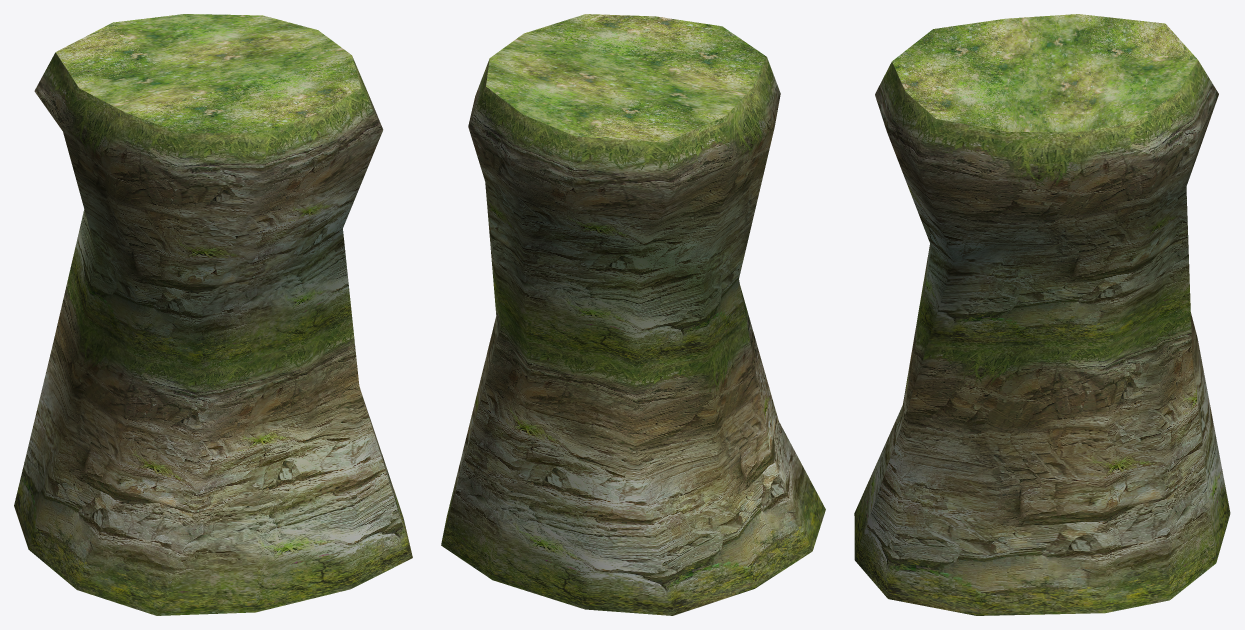
The model's file is GrassPillar.gltf.
The picture shows the model from 3 angles, left to right: view 1: azimuth 30°, elevation 25°; view 2: azimuth 150°, elevation 25°; view 3: azimuth 270°, elevation 25°; orthographic projection. The views are drawn at different scales.
Visible parts, largest first — view 1: GrassPillar; view 2: GrassPillar; view 3: GrassPillar.
Part boxes in pixels (x1,y1,x2,y2): GrassPillar: [14, 14, 412, 615]; GrassPillar: [441, 14, 825, 615]; GrassPillar: [854, 14, 1230, 615].
Bounding box in the file's own units: 7.23 × 9.95 × 7.27.
Materials: 2 (2 with a texture image).
